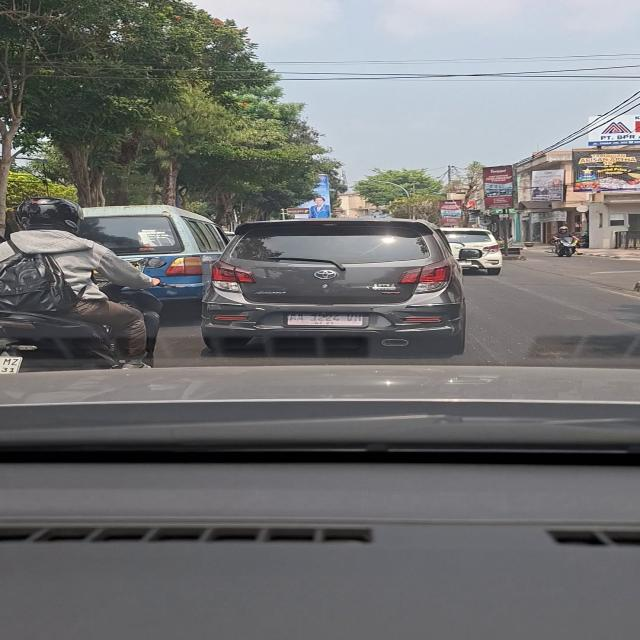WithHelmet: (0, 196, 162, 369), (552, 226, 583, 255)
